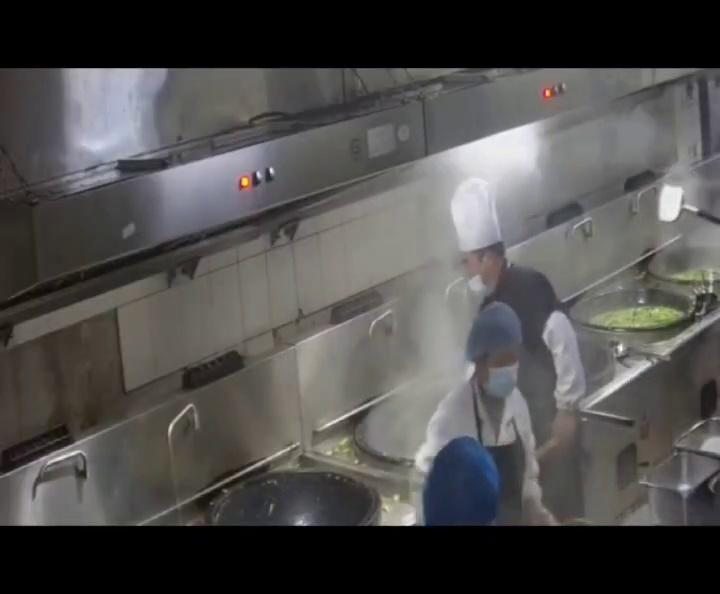mask: (458, 253, 495, 296)
